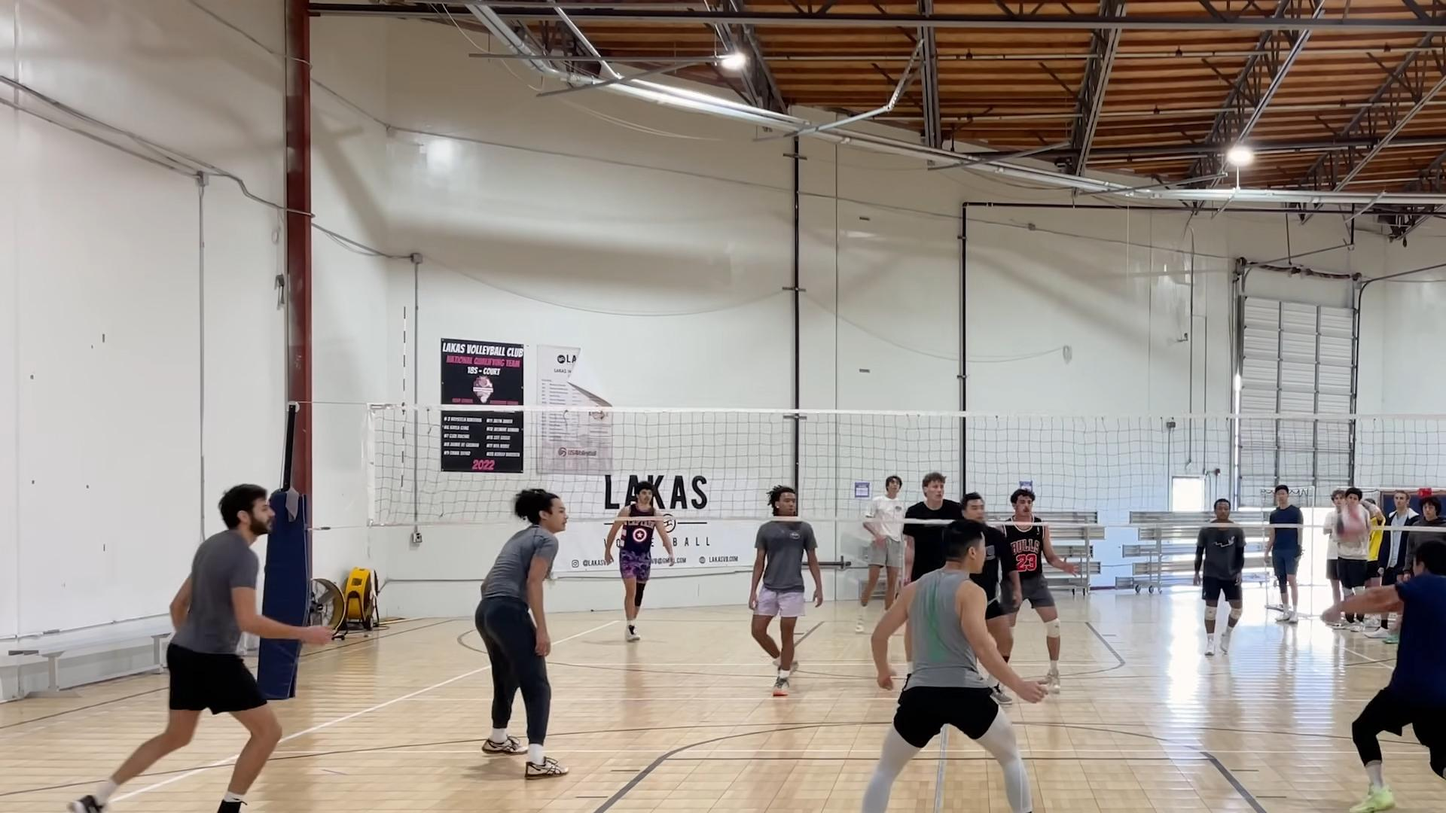Player: (69, 485, 331, 812), (862, 521, 1046, 812), (1323, 540, 1445, 812), (474, 489, 567, 779), (1001, 488, 1077, 691), (749, 486, 822, 696), (605, 482, 673, 641), (962, 492, 1020, 662), (1194, 498, 1245, 655), (856, 475, 906, 633), (903, 471, 962, 581)
Receive: (1315, 549, 1446, 813)
